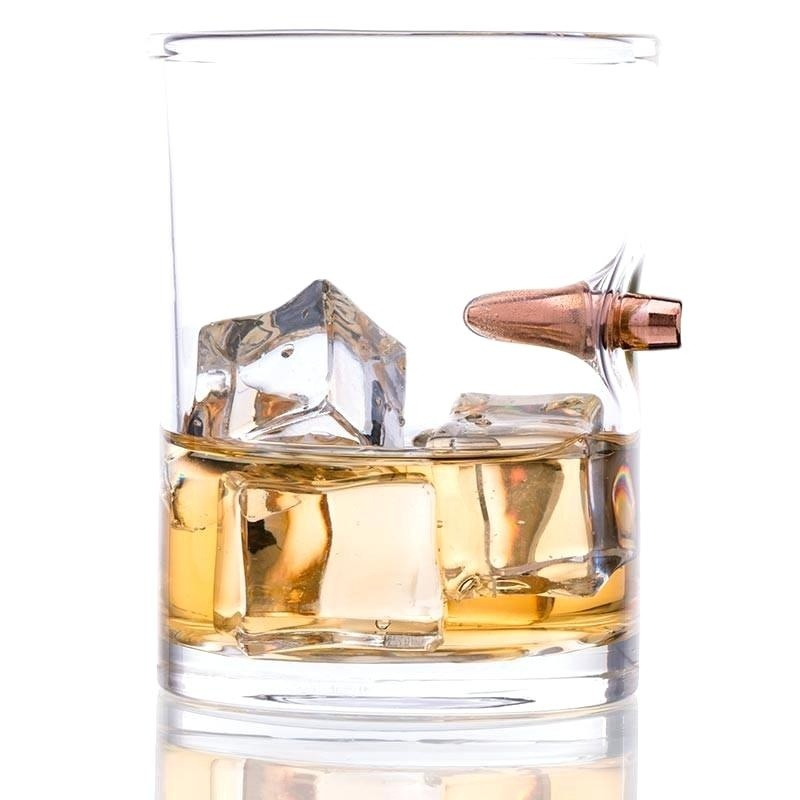whiskey: (156, 27, 653, 752)
